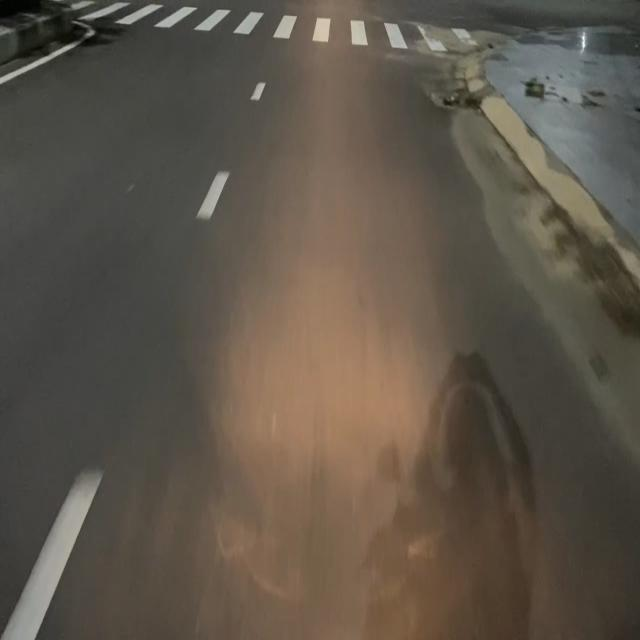walk-crossing: (46, 1, 492, 54)
